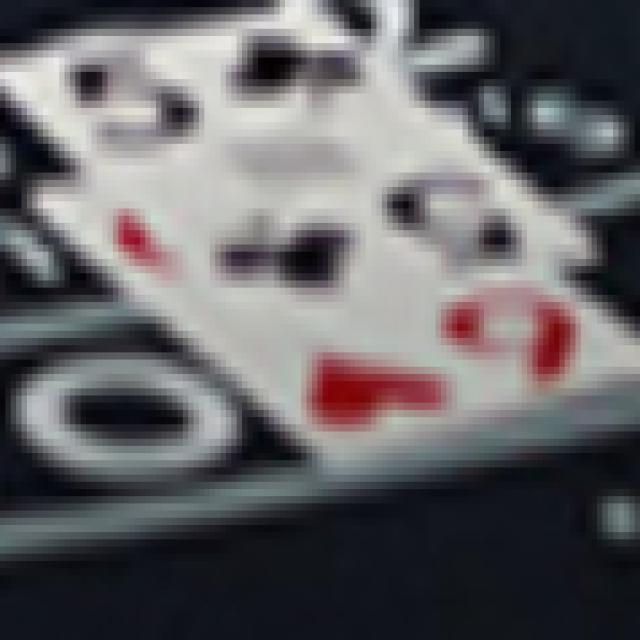Card-5: (1, 1, 591, 345)
Card-6: (33, 171, 639, 465)
